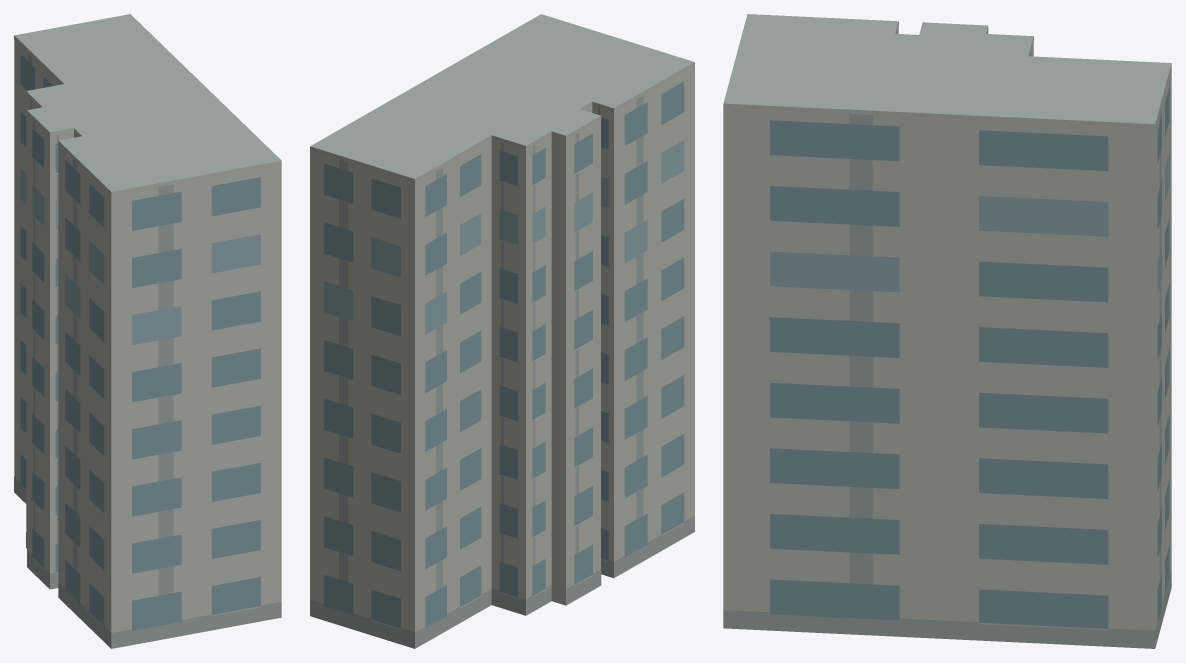
The model's file is survey-upis-33031603.glb.
The picture shows the model from 3 angles, left to right: view 1: azimuth 30°, elevation 25°; view 2: azimuth 150°, elevation 25°; view 3: azimuth 270°, elevation 25°; orthographic projection. The views are drawn at different scales.
Visible parts, largest first — view 1: survey-upis-33031603.tmp; view 2: survey-upis-33031603.tmp; view 3: survey-upis-33031603.tmp.
Boxes of the visible parts, box(x1,y1,x2,y2) form: survey-upis-33031603.tmp: box(14, 14, 281, 648); survey-upis-33031603.tmp: box(310, 14, 694, 648); survey-upis-33031603.tmp: box(723, 14, 1171, 648).
Size of the model in its own units: 13.07 by 29 by 22.46.
